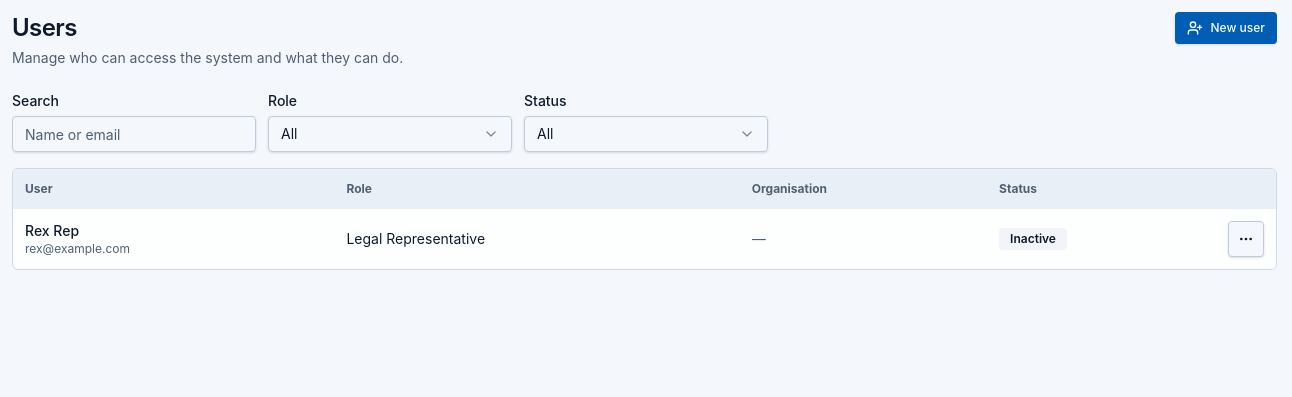
UsersPage password ownership › offers neither to a deactivated user
The image size is (1292, 397).
Expected: the text "Rex Rep" is shown, [25,222,79,239]
Click the button named "actions for rex rep" at (1246, 239), box [1228,221,1264,257]
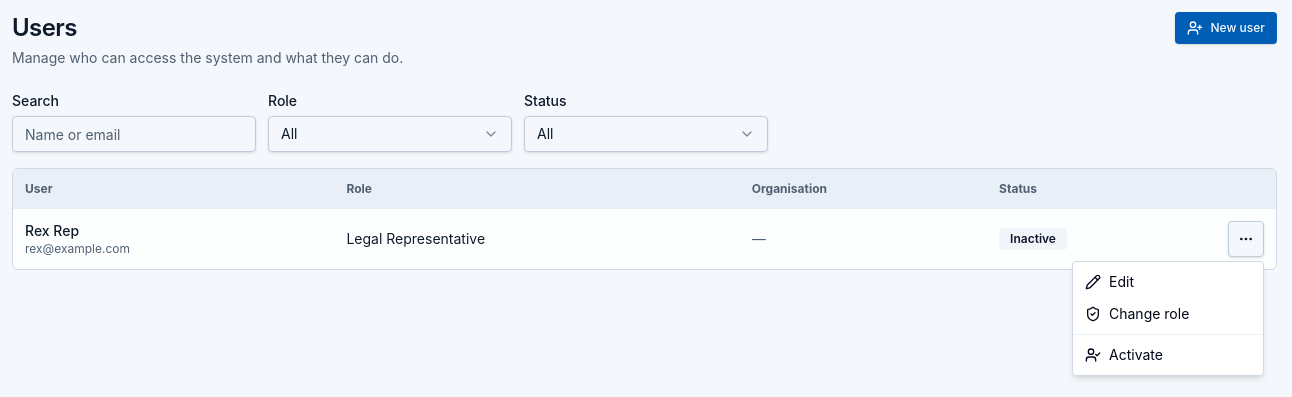
Now the menu item "Edit" is shown, box [1085,273,1134,290]
